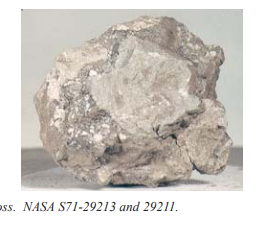Breccia: (22, 10, 240, 189)
